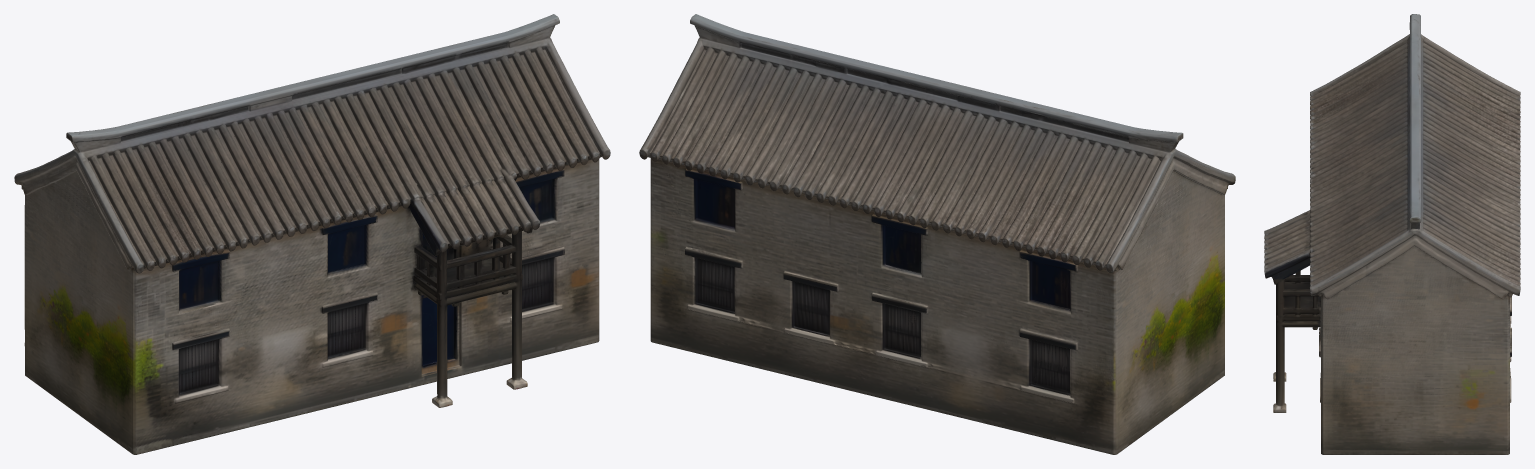
File: 台儿庄战役.glb
3 views of the same model, side by side, from view 1: azimuth 30°, elevation 25°; view 2: azimuth 150°, elevation 25°; view 3: azimuth 270°, elevation 25° (orthographic). The views are drawn at different scales.
Visible parts, largest first — view 1: texture_pbr_v128; view 2: texture_pbr_v128; view 3: texture_pbr_v128.
Part boxes in pixels (x1=…): texture_pbr_v128: x1=14, y1=14, x2=610, y2=454; texture_pbr_v128: x1=639, y1=14, x2=1235, y2=454; texture_pbr_v128: x1=1264, y1=14, x2=1520, y2=454.
Size of the model in its own units: 0.8007 by 0.4453 by 0.4265.
1 material, 1 textured.
